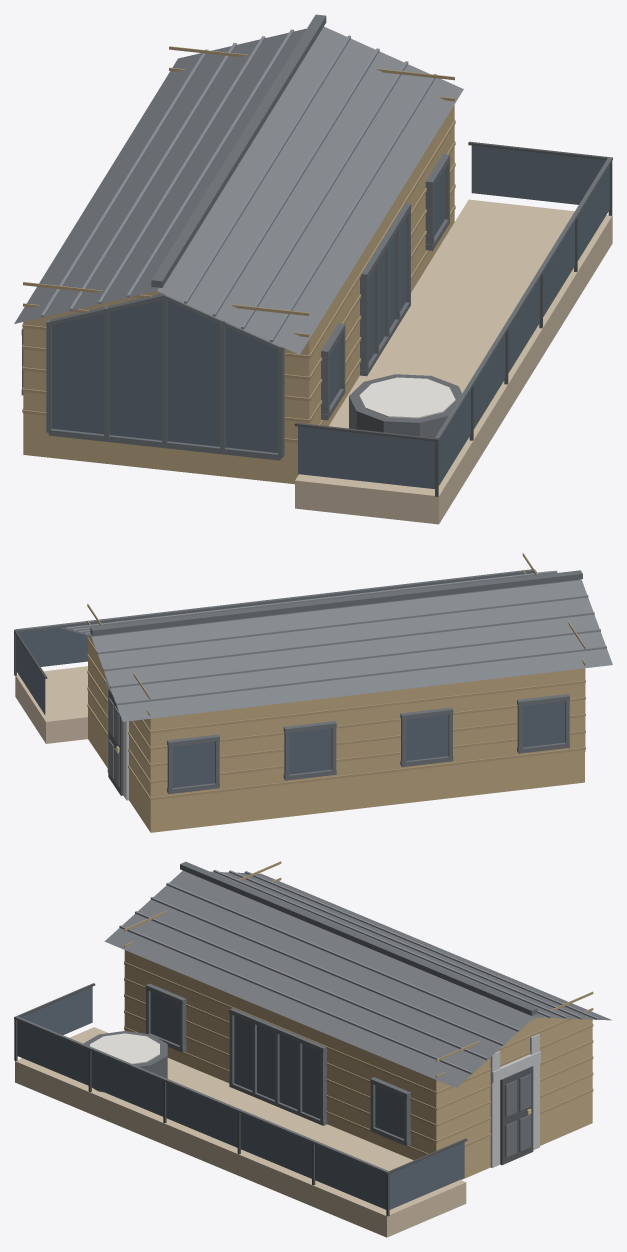
3 renders of one model, top to bottom at view 1: azimuth 30°, elevation 25°; view 2: azimuth 150°, elevation 25°; view 3: azimuth 270°, elevation 25°, orthographic. The views are drawn at different scales.
Parts seen in each view (by area): view 1: slate, larch, window_glass_014, slate_dk, door_wood, slate_lt, window_glass_006, window_glass_007, door_wood_p, string, band_dark, pipe (+5 smaller); view 2: slate, door_wood, slate_dk, slate_lt, door_wood_p, larch, window_glass_005, window_glass_015, window_glass_016, window_glass_017, window_glass_018, window_glass_007 (+3 smaller); view 3: slate, door_wood, larch, slate_dk, slate_lt, door_wood_p, window_glass_007, window_glass_002, window_glass_001, window_glass_003, window_glass_004, window_glass_005 (+13 smaller).
Part boxes in pixels (x1=…): slate: x1=14, y1=26, x2=463, y2=354; larch: x1=295, y1=199, x2=612, y2=524; window_glass_014: x1=52, y1=300, x2=277, y2=452; slate_dk: x1=21, y1=14, x2=612, y2=460; door_wood: x1=23, y1=105, x2=454, y2=484; slate_lt: x1=41, y1=29, x2=436, y2=342; window_glass_006: x1=298, y1=426, x2=434, y2=489; window_glass_007: x1=471, y1=145, x2=605, y2=204; door_wood_p: x1=22, y1=46, x2=455, y2=442; string: x1=359, y1=377, x2=455, y2=418; band_dark: x1=349, y1=374, x2=461, y2=437; pipe: x1=294, y1=141, x2=612, y2=496; slate: x1=60, y1=571, x2=612, y2=721; door_wood: x1=88, y1=636, x2=584, y2=832; slate_dk: x1=15, y1=569, x2=585, y2=793; slate_lt: x1=66, y1=570, x2=606, y2=705; door_wood_p: x1=87, y1=553, x2=585, y2=800; larch: x1=15, y1=666, x2=87, y2=743; window_glass_005: x1=18, y1=621, x2=116, y2=666; window_glass_015: x1=172, y1=742, x2=214, y2=787; window_glass_016: x1=289, y1=728, x2=331, y2=774; window_glass_017: x1=406, y1=715, x2=448, y2=760; window_glass_018: x1=523, y1=701, x2=564, y2=747; window_glass_007: x1=16, y1=635, x2=45, y2=714; slate: x1=104, y1=870, x2=611, y2=1088; door_wood: x1=124, y1=950, x2=592, y2=1179; larch: x1=15, y1=1027, x2=466, y2=1237; slate_dk: x1=15, y1=861, x2=537, y2=1174; slate_lt: x1=119, y1=870, x2=597, y2=1074; door_wood_p: x1=124, y1=861, x2=593, y2=1154; window_glass_007: x1=389, y1=1142, x2=464, y2=1209; window_glass_002: x1=91, y1=1051, x2=163, y2=1116; window_glass_001: x1=17, y1=1020, x2=88, y2=1085; window_glass_003: x1=166, y1=1082, x2=237, y2=1147; window_glass_004: x1=240, y1=1113, x2=311, y2=1178; window_glass_005: x1=315, y1=1144, x2=386, y2=1209.
Bounding box in the file's own units: 12.71 × 3.65 × 12.7.
